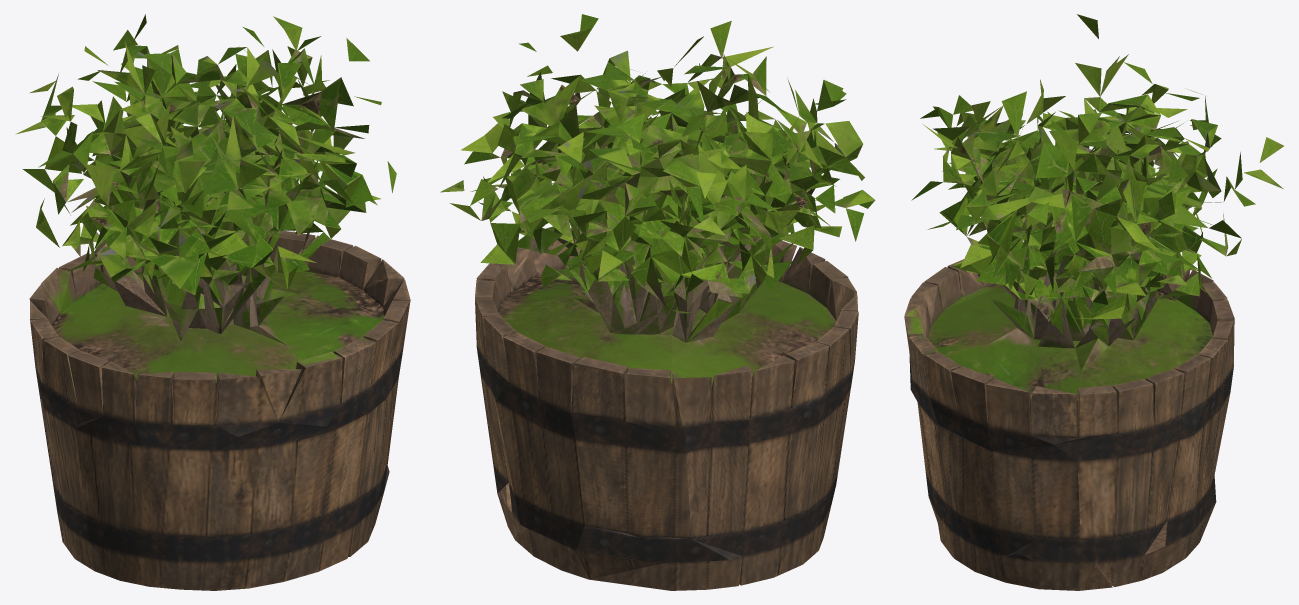
File: tub_plant.glb
3 views of the same model, side by side, from view 1: azimuth 30°, elevation 25°; view 2: azimuth 150°, elevation 25°; view 3: azimuth 270°, elevation 25° (orthographic). The views are drawn at different scales.
Visible parts, largest first — view 1: Mesh_0; view 2: Mesh_0; view 3: Mesh_0.
Boxes of the visible parts, x1=… form: Mesh_0: x1=15, y1=14, x2=410, y2=590; Mesh_0: x1=440, y1=14, x2=875, y2=590; Mesh_0: x1=904, y1=14, x2=1283, y2=590.
Size of the model in its own units: 0.832 by 1.2 by 0.8565.
Materials: 1 (1 with a texture image).
